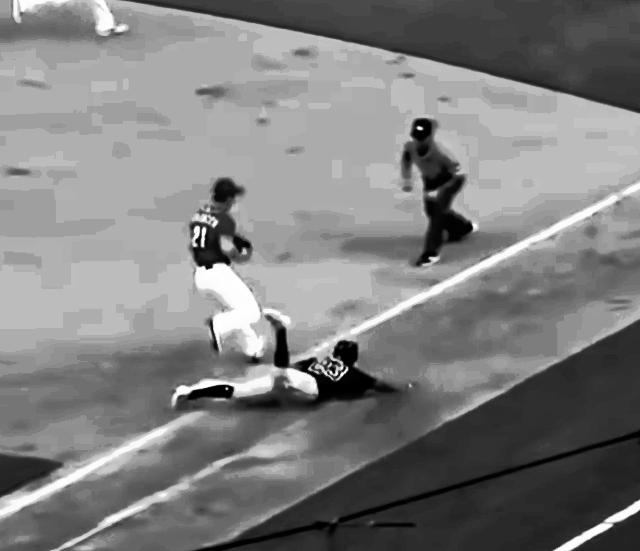jatuh: (169, 303, 425, 417)
